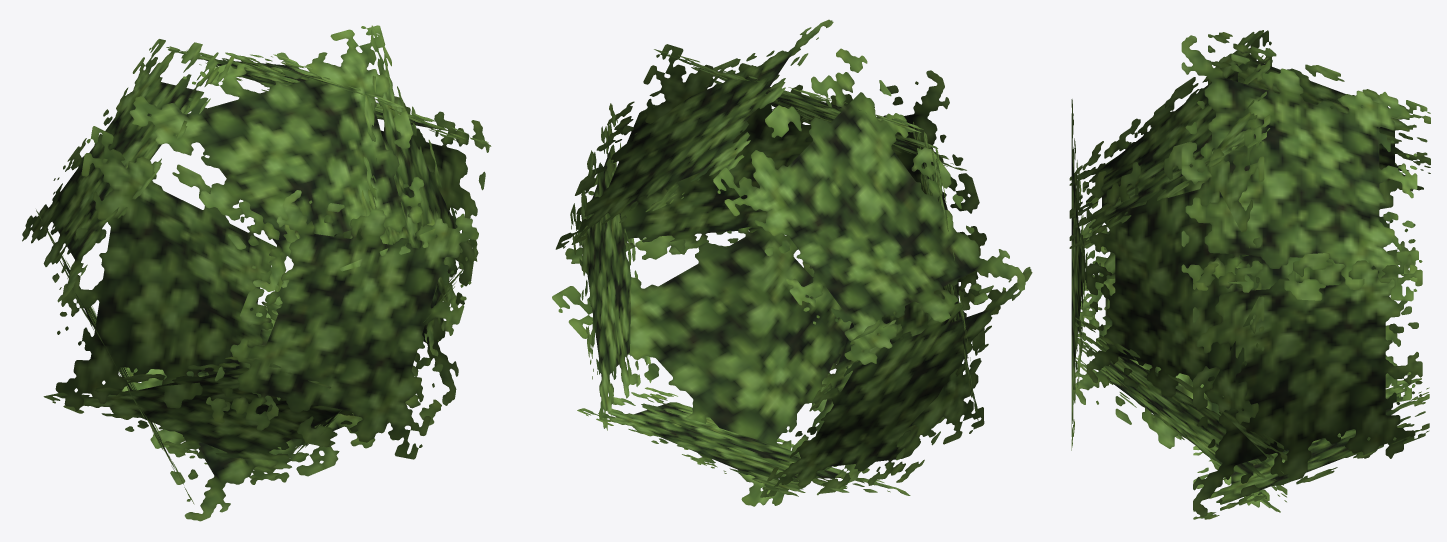
File: bush-small-12-lime.obj
3 views of the same model, side by side, from view 1: azimuth 30°, elevation 25°; view 2: azimuth 150°, elevation 25°; view 3: azimuth 270°, elevation 25° (orthographic).
Bounding box in the file's own units: 1.08 × 1.09 × 0.7499.
1 material, 1 textured.
